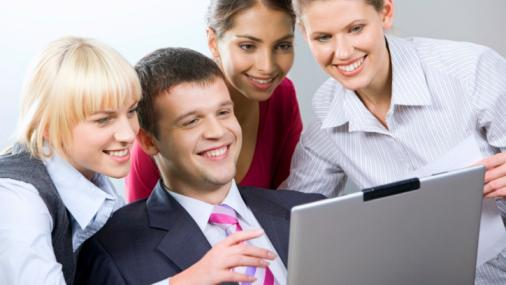bare: (168, 127, 243, 180), (314, 41, 385, 88), (73, 129, 138, 176), (229, 56, 293, 101)
